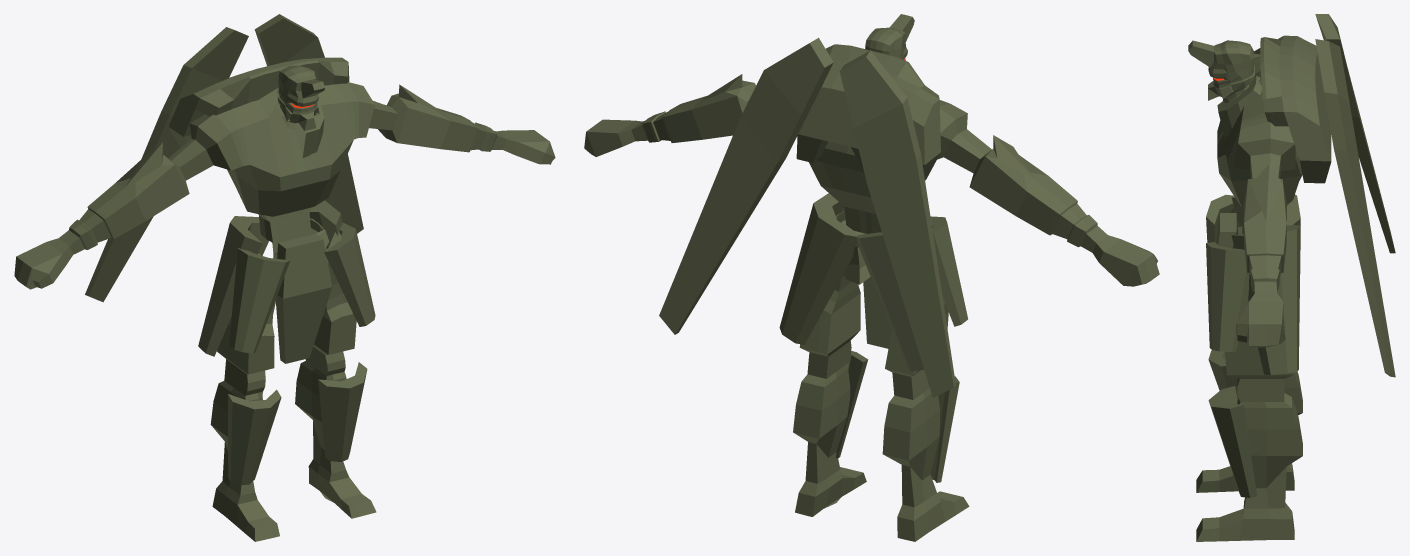
Rendered from mech_char_2.glb.
The picture shows the model from 3 angles, left to right: view 1: azimuth 30°, elevation 25°; view 2: azimuth 150°, elevation 25°; view 3: azimuth 270°, elevation 25°; orthographic projection. The views are drawn at different scales.
Parts seen in each view (by area): view 1: Cube.006; view 2: Cube.006; view 3: Cube.006.
Part boxes in pixels (x1,y1,x2,y2): Cube.006: (14, 14, 555, 541); Cube.006: (584, 14, 1159, 541); Cube.006: (1188, 14, 1395, 541).
Size of the model in its own units: 16.38 by 13.66 by 5.3.
